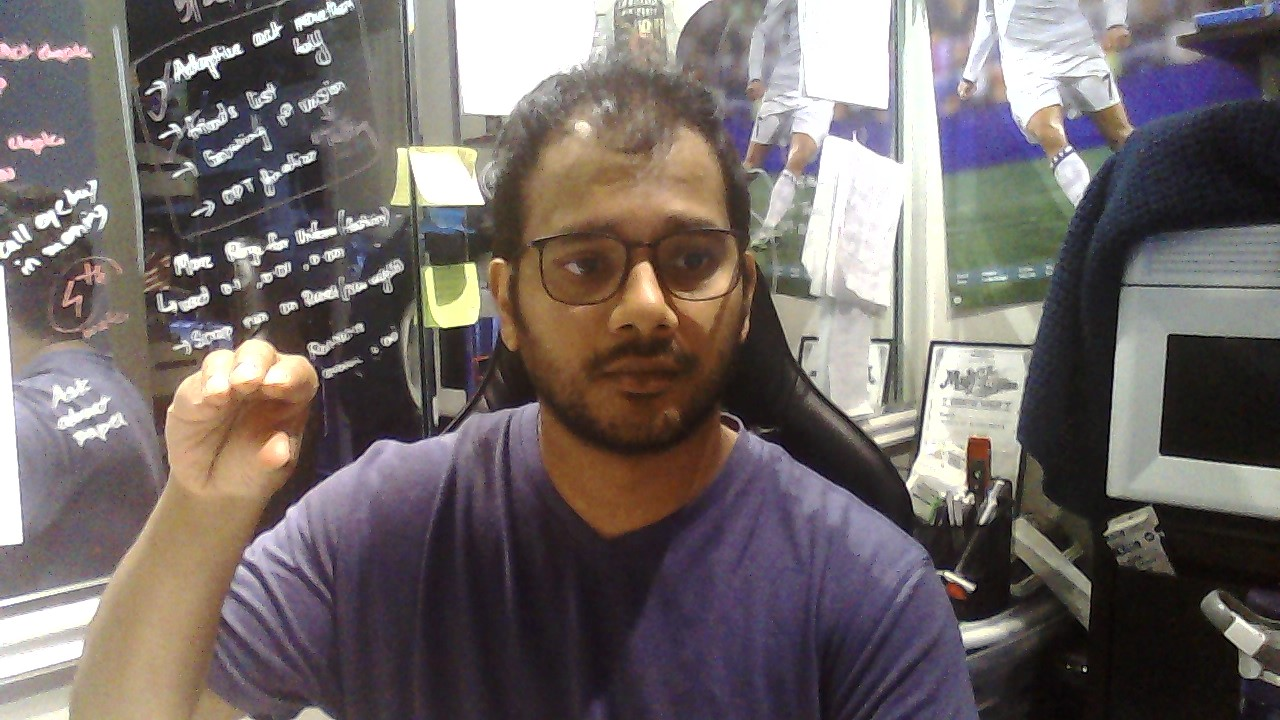No: (165, 338, 317, 494)
